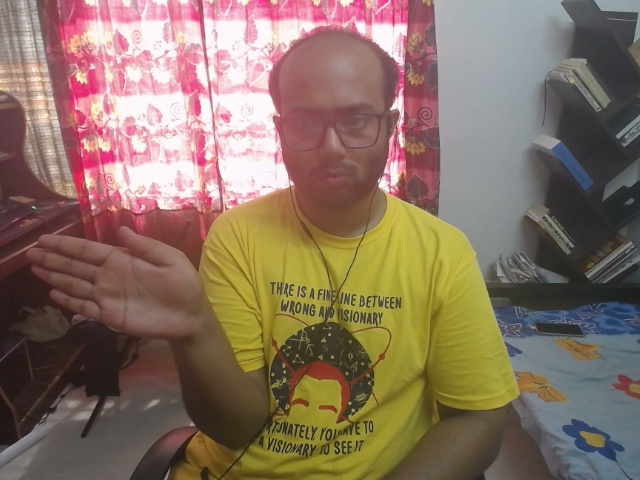south: (17, 203, 245, 368)
